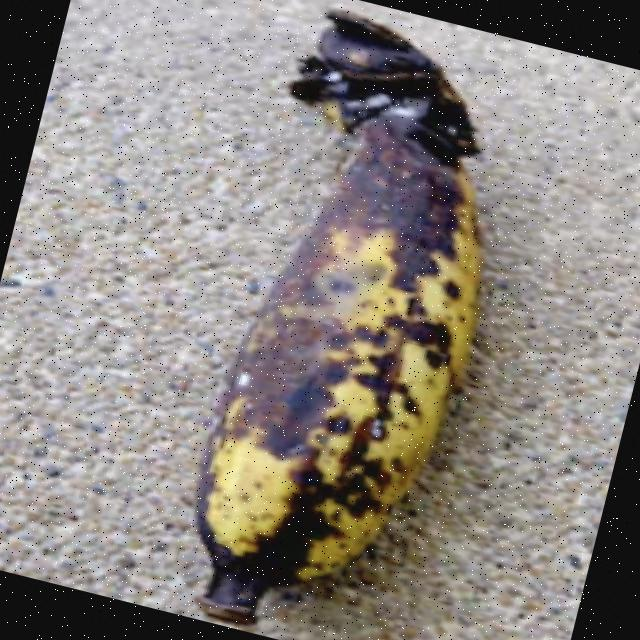Rotten: (95, 0, 564, 640)
